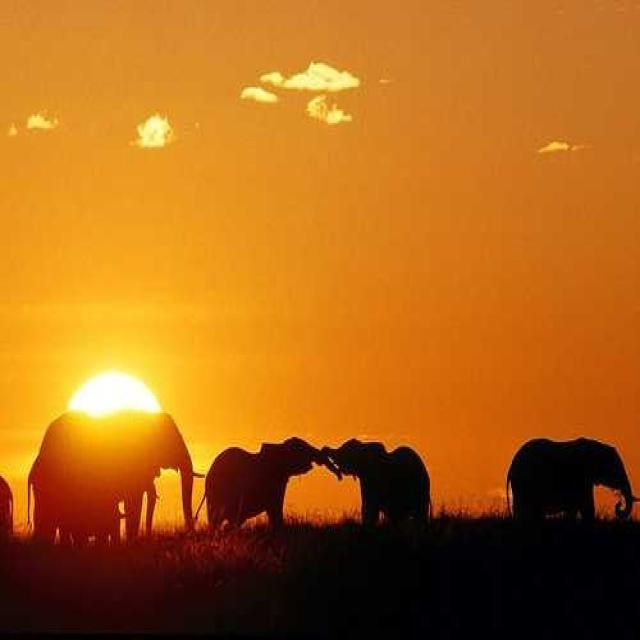Elephant: (27, 406, 196, 546), (202, 435, 342, 534), (504, 435, 639, 522), (320, 437, 431, 527), (0, 469, 13, 538)
